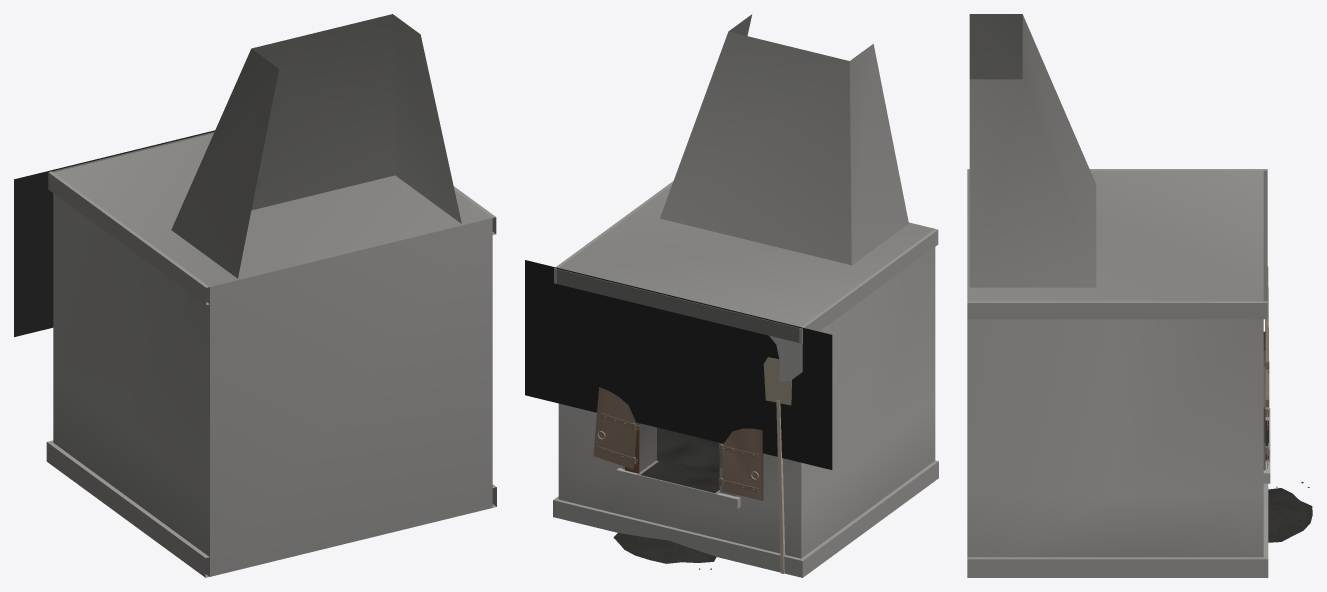
The model's file is prop_oven.glb.
3 views of the same model, side by side, from view 1: azimuth 30°, elevation 25°; view 2: azimuth 150°, elevation 25°; view 3: azimuth 270°, elevation 25° (orthographic). The views are drawn at different scales.
Visible parts, largest first — view 1: Oven; view 2: Oven, OvenSoft; view 3: Oven, OvenSoft.
Part boxes in pixels (bbox=[...]): Oven: bbox=[14, 14, 496, 577]; Oven: bbox=[525, 14, 938, 577]; OvenSoft: bbox=[613, 427, 719, 563]; Oven: bbox=[967, 14, 1311, 577]; OvenSoft: bbox=[1265, 420, 1312, 542].
Bounding box in the file's own units: 3.04 × 3.97 × 2.68.
